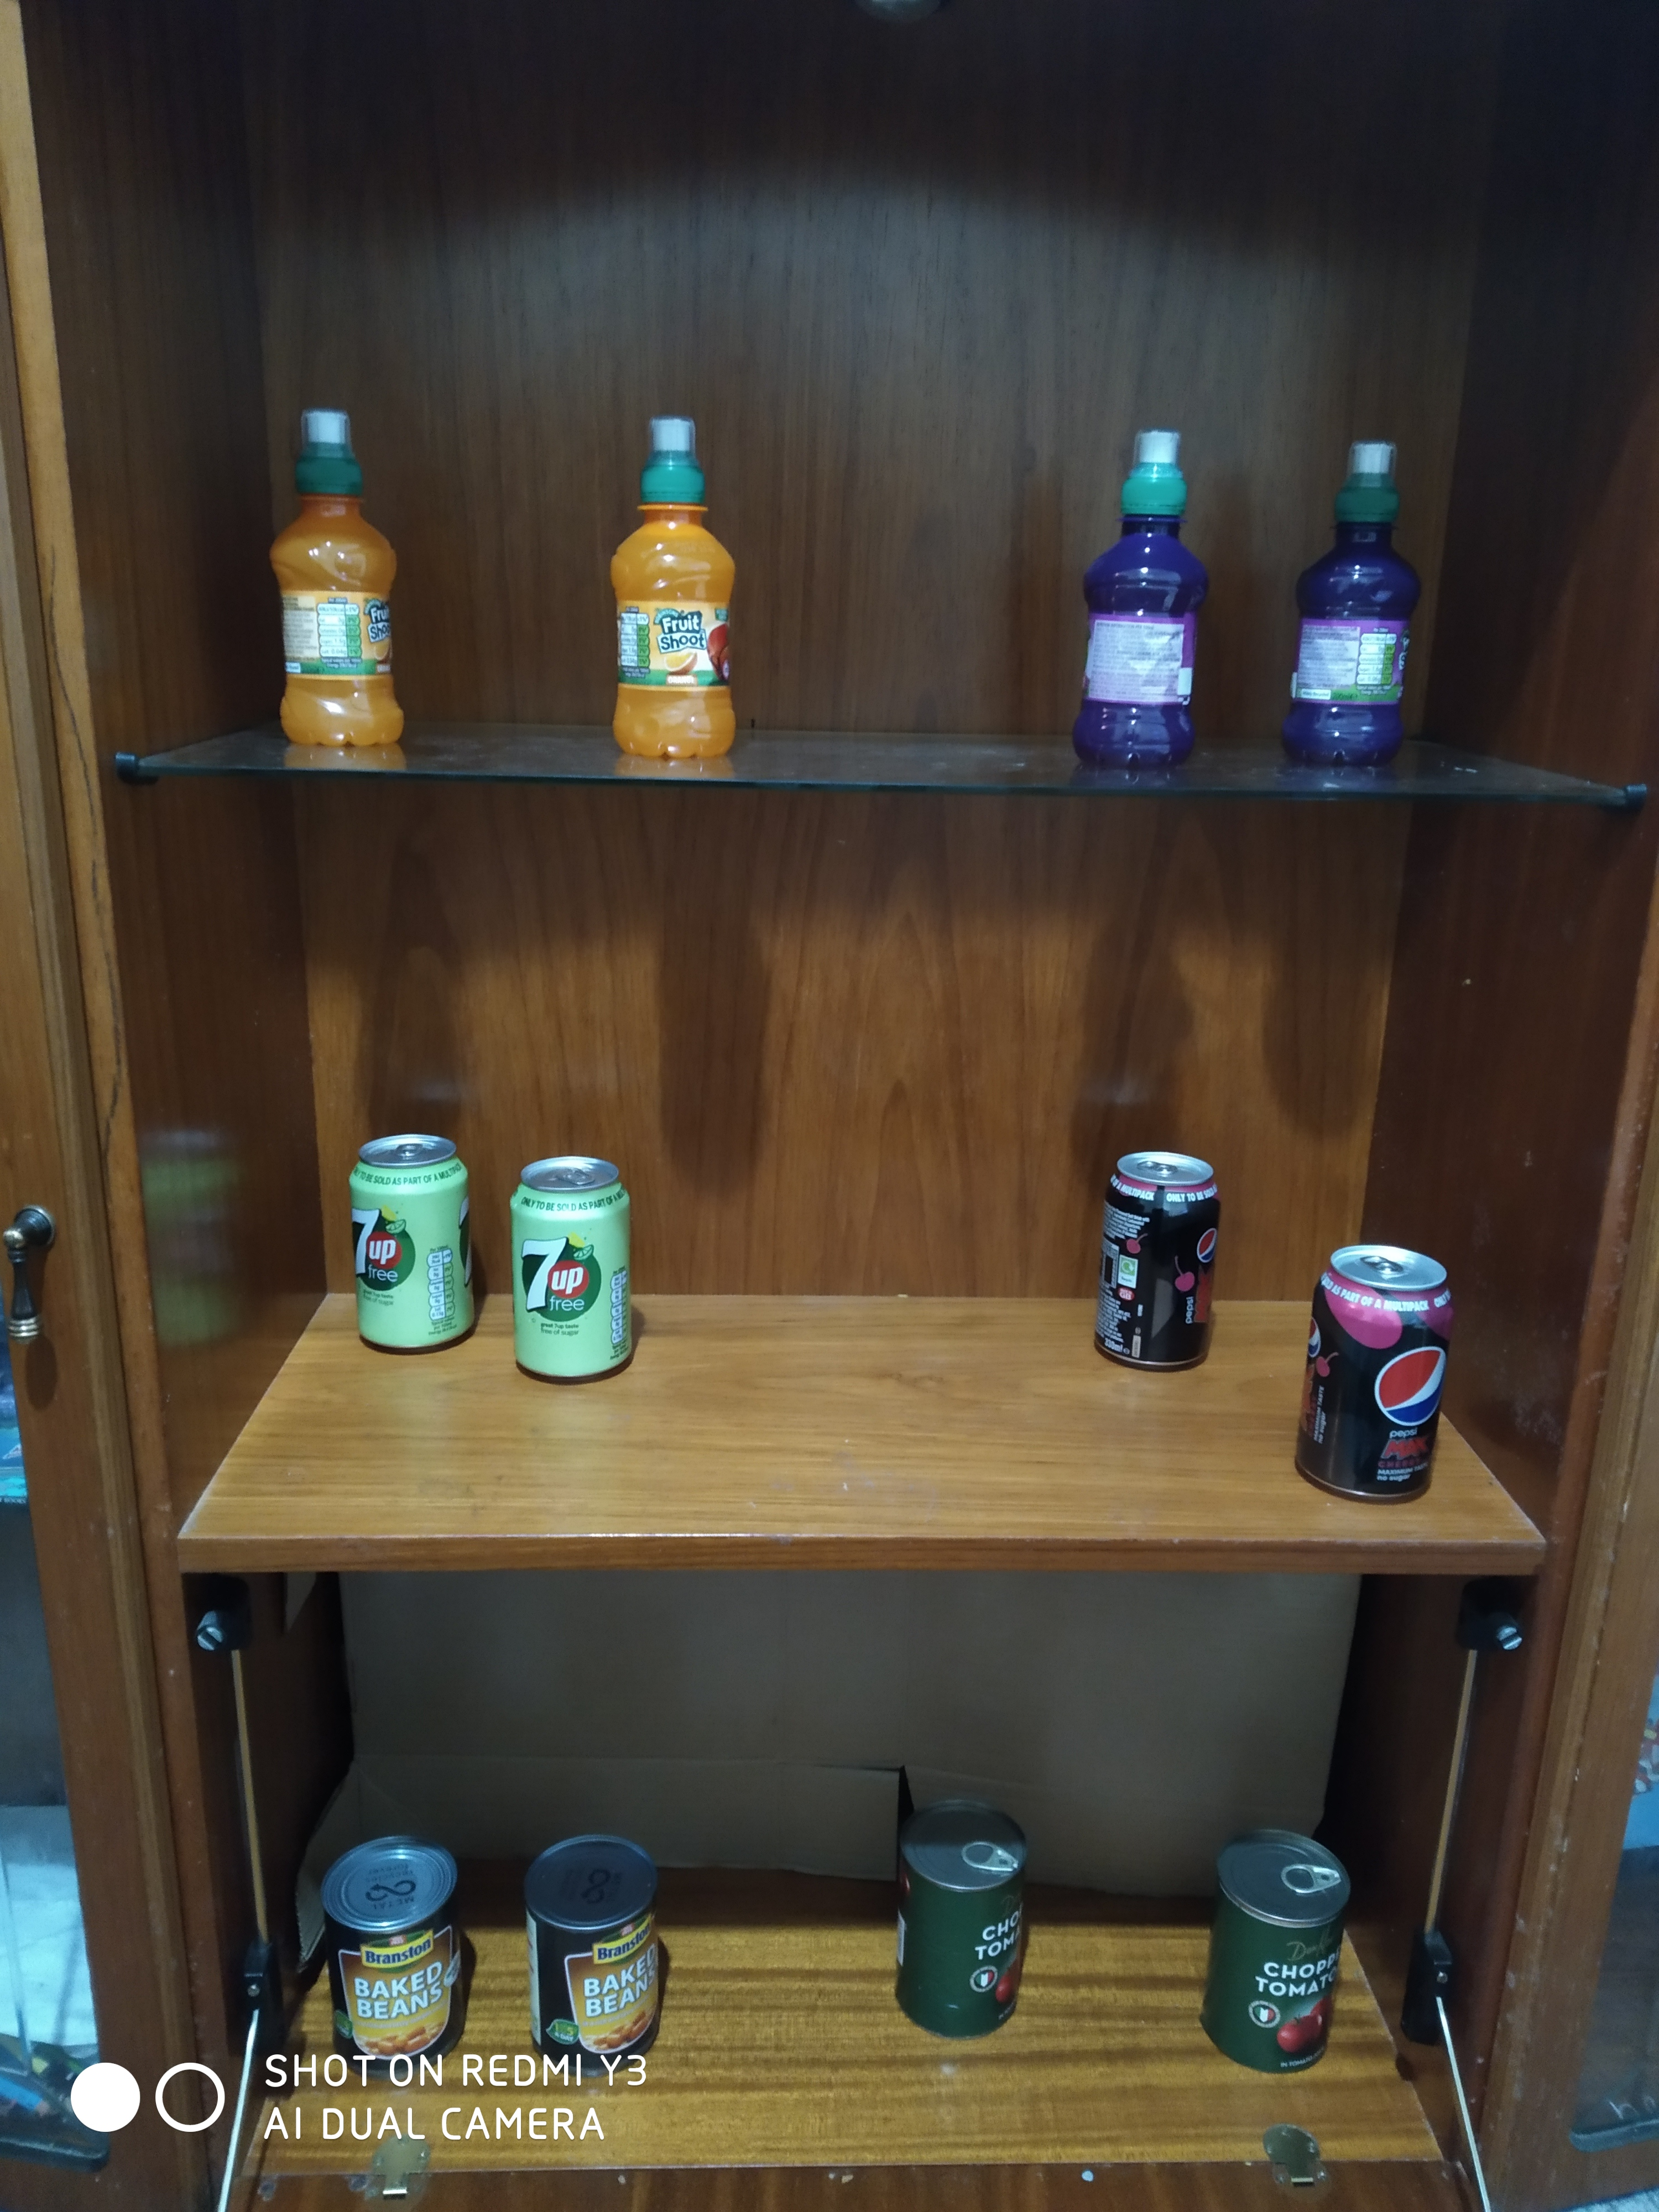orange: (270, 404, 411, 761)
